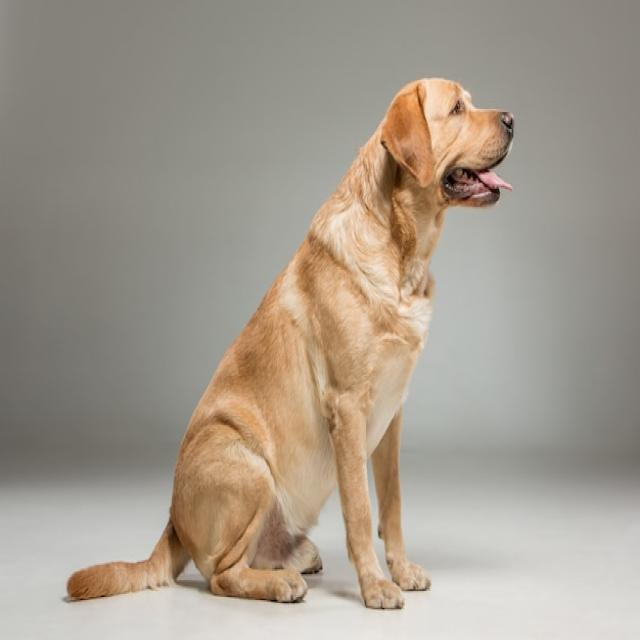Dog: (65, 77, 515, 608)
